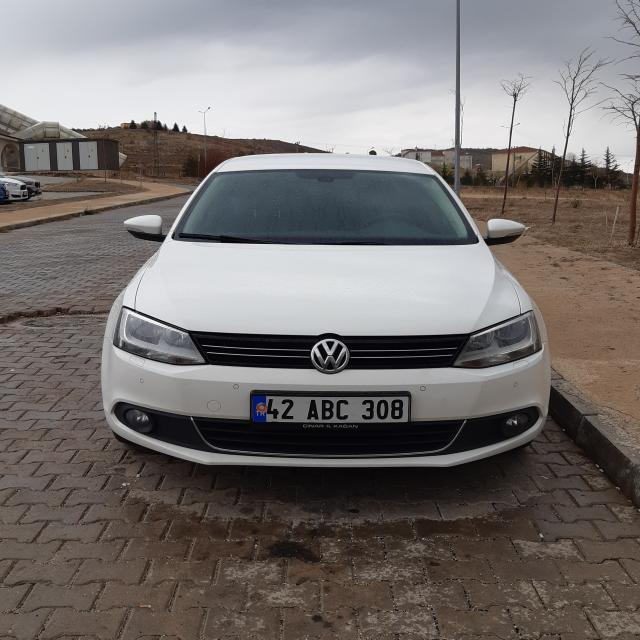license_plate: (251, 392, 412, 423)
